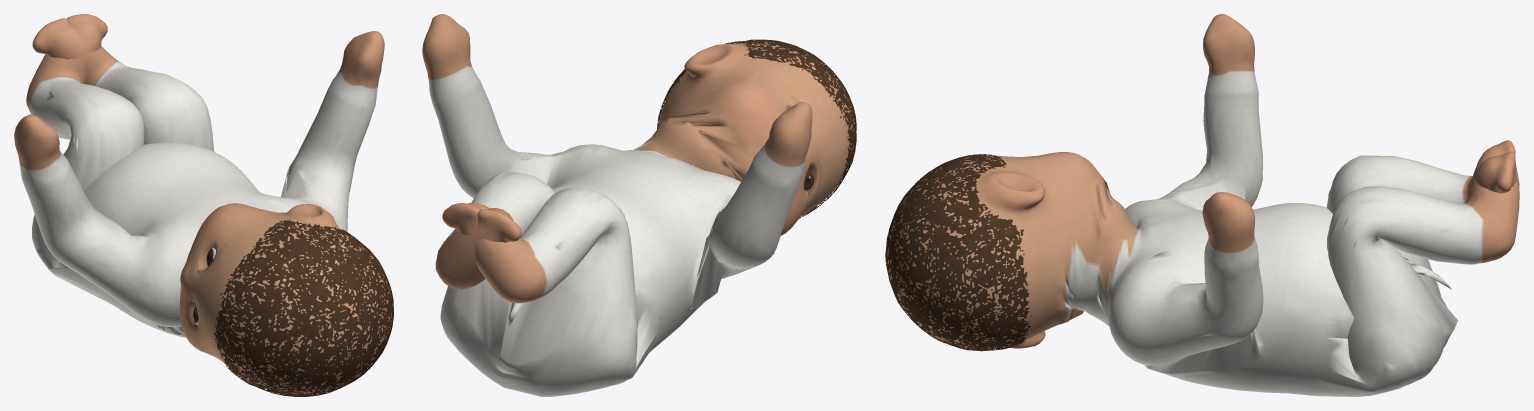
File: ely_bebe_ventral.obj
3 views of the same model, side by side, from view 1: azimuth 30°, elevation 25°; view 2: azimuth 150°, elevation 25°; view 3: azimuth 270°, elevation 25° (orthographic). The views are drawn at different scales.
Parts seen in each view (by area): view 1: ely_bebe_ventral_corps, ely_bebe_ventral_cheveux; view 2: ely_bebe_ventral_corps, ely_bebe_ventral_cheveux; view 3: ely_bebe_ventral_corps, ely_bebe_ventral_cheveux.
Part boxes in pixels (box(x1,y1,x2,y2)): ely_bebe_ventral_corps: box(14, 14, 391, 394); ely_bebe_ventral_cheveux: box(214, 219, 393, 396); ely_bebe_ventral_corps: box(422, 14, 854, 396); ely_bebe_ventral_cheveux: box(657, 39, 856, 218); ely_bebe_ventral_corps: box(887, 14, 1519, 396); ely_bebe_ventral_cheveux: box(885, 154, 1032, 351).
Bounding box in the file's own units: 0.2747 × 0.1915 × 0.3915.
Materials: 3 (3 with a texture image).
